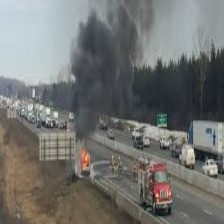smoke: (77, 1, 153, 140)
